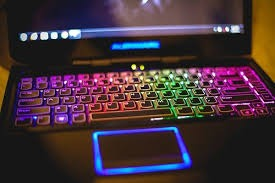keyboard: (8, 68, 275, 129)
